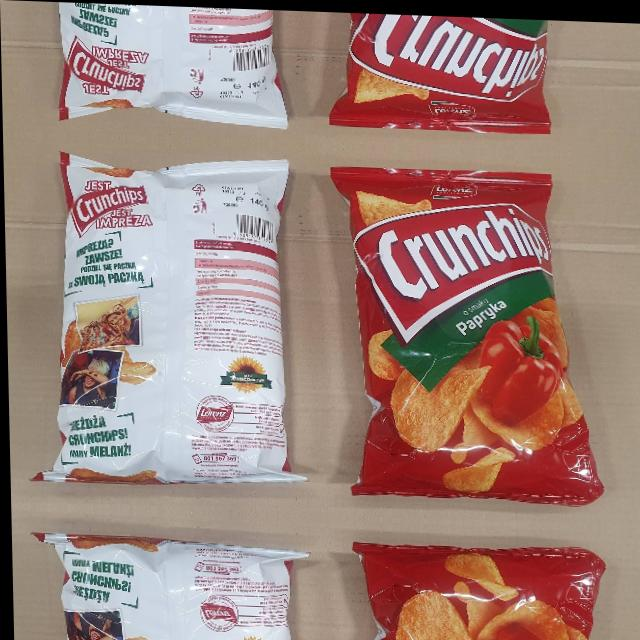crunchips: (353, 199, 552, 344), (349, 12, 548, 98)
